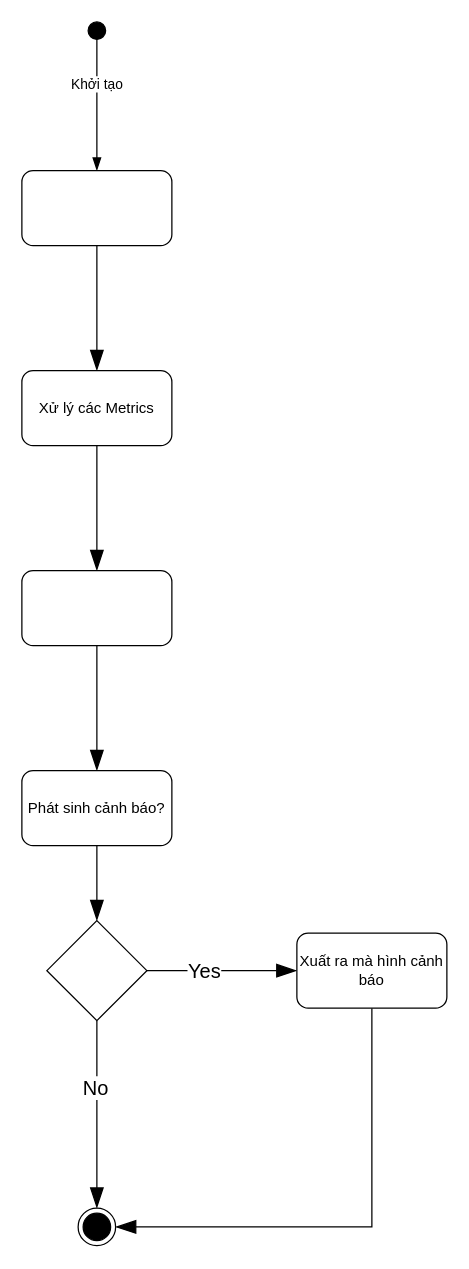
Some shapes in this 469 by 1269 pixel diagram are drawn without their labels. Here are the shapes that lost their labels. From the top down, the centre of each, then its label:
At point (96, 207): "Thu gom các Metrics".
At point (96, 607): "Lưu vào Prometheus".
